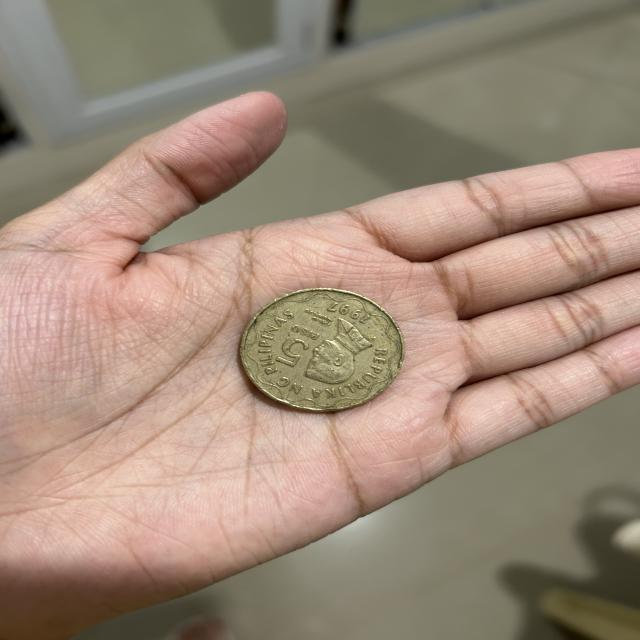5_Old_Front: (276, 321, 318, 373)
